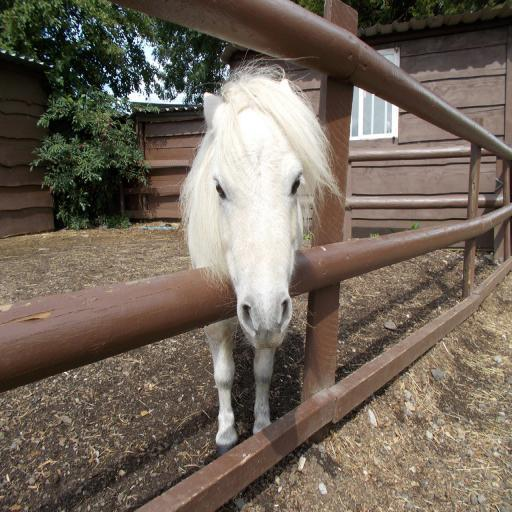horse: (174, 54, 350, 460)
